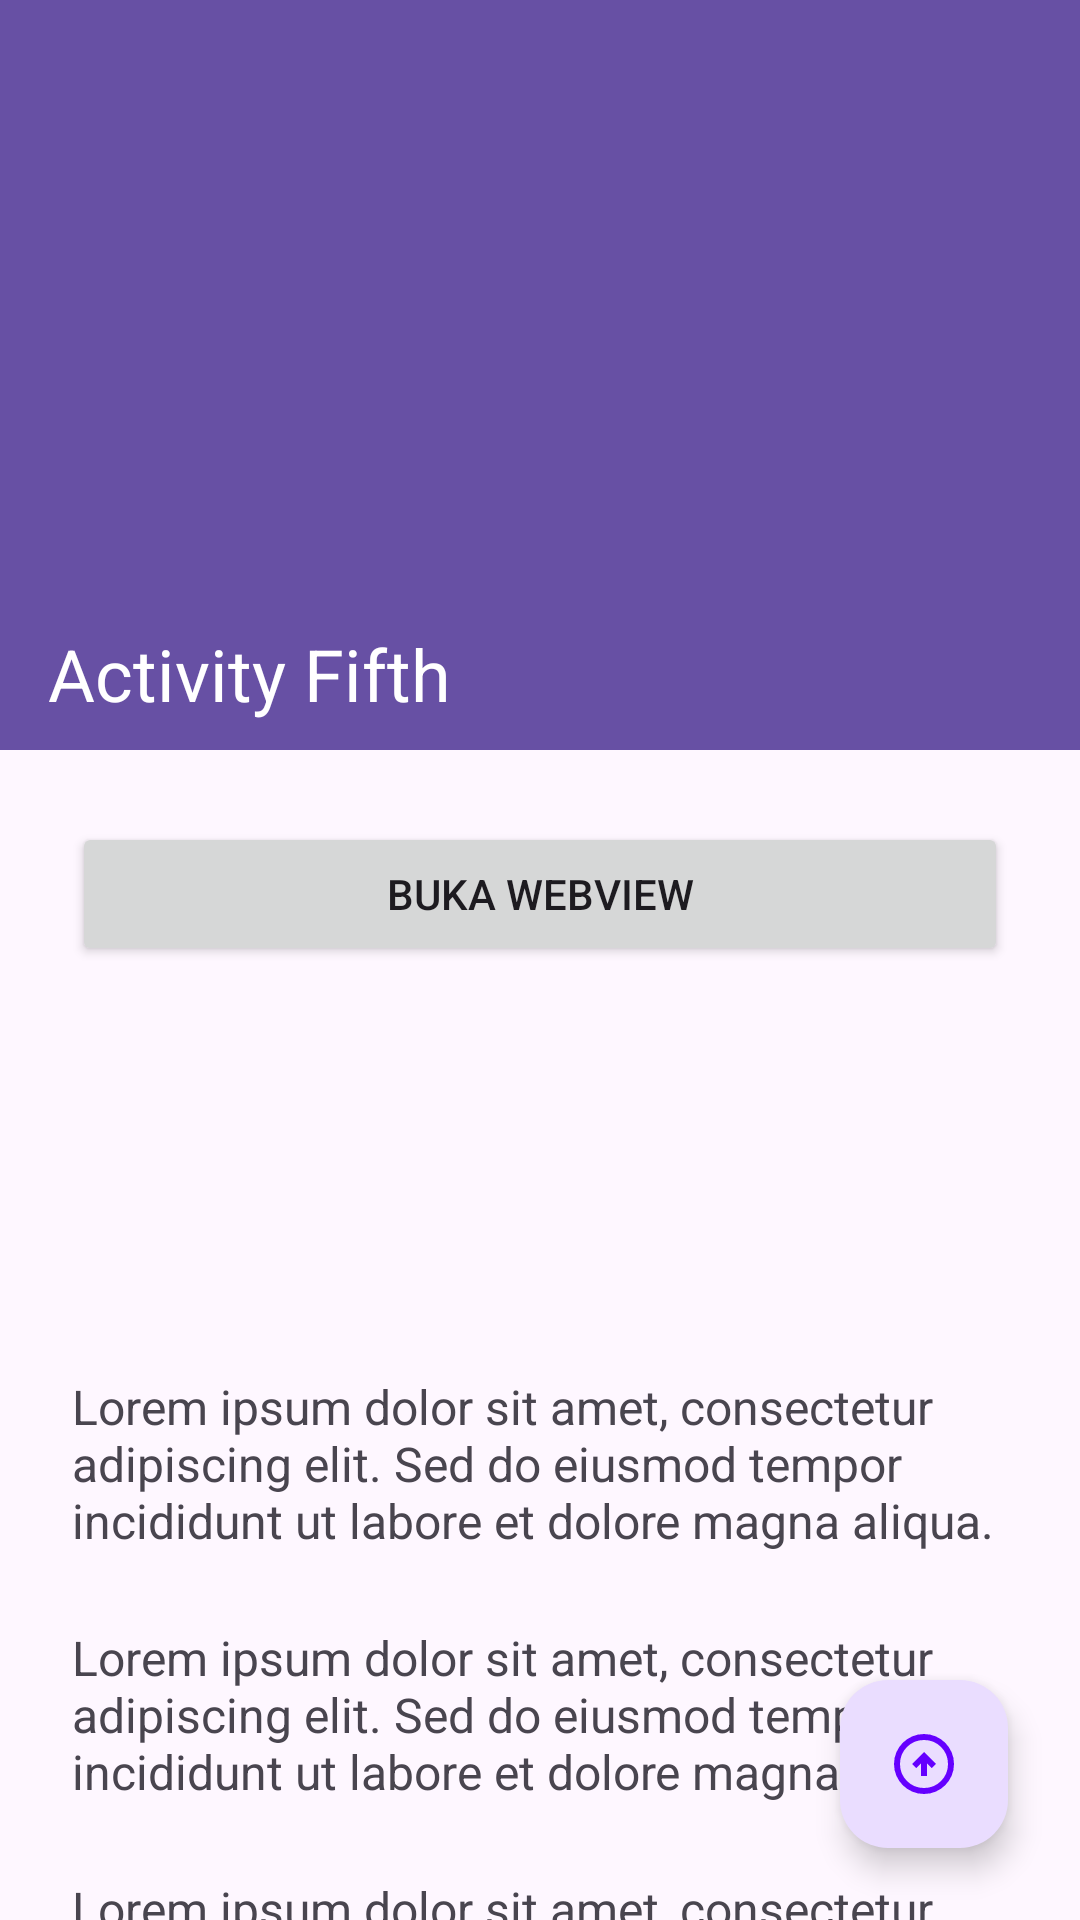

Where to tap for icons on this 1080x1920 app screen, as (x,y):
arrow circle up: (924,1764)
